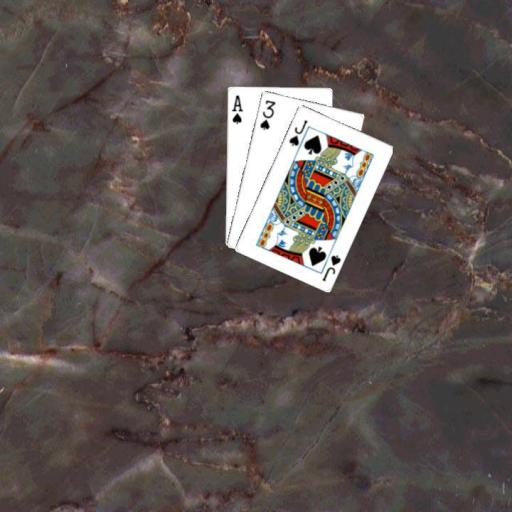3S: (257, 97, 277, 131)
AS: (228, 92, 244, 125)
JS: (286, 117, 309, 147), (319, 252, 342, 282)
